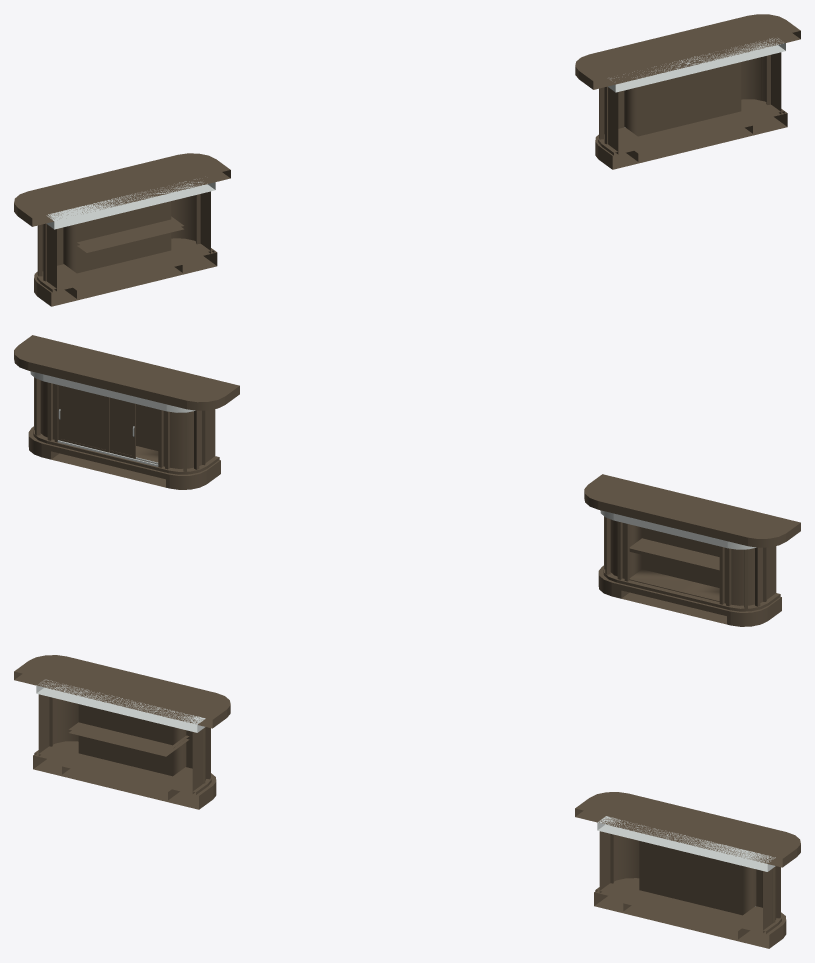
3 views of the same model, one above another, from view 1: azimuth 30°, elevation 25°; view 2: azimuth 150°, elevation 25°; view 3: azimuth 330°, elevation 25° (orthographic).
Visible parts, largest first — view 1: G:\FFXIV-MapTools\exports\s1f3\bg\ffxiv\sea_s1\fld\s1f3\bgpa (×2); view 2: G:\FFXIV-MapTools\exports\s1f3\bg\ffxiv\sea_s1\fld\s1f3\bgpa (×2); view 3: G:\FFXIV-MapTools\exports\s1f3\bg\ffxiv\sea_s1\fld\s1f3\bgpa (×2).
Boxes of the visible parts, left/top/right/bottom form: G:\FFXIV-MapTools\exports\s1f3\bg\ffxiv\sea_s1\fld\s1f3\bgpa (×2): left=14, top=14, right=800, bottom=306; G:\FFXIV-MapTools\exports\s1f3\bg\ffxiv\sea_s1\fld\s1f3\bgpa (×2): left=14, top=335, right=800, bottom=626; G:\FFXIV-MapTools\exports\s1f3\bg\ffxiv\sea_s1\fld\s1f3\bgpa (×2): left=14, top=655, right=800, bottom=948.
Size of the model in its own units: 11.3 by 1.31 by 0.7305.
